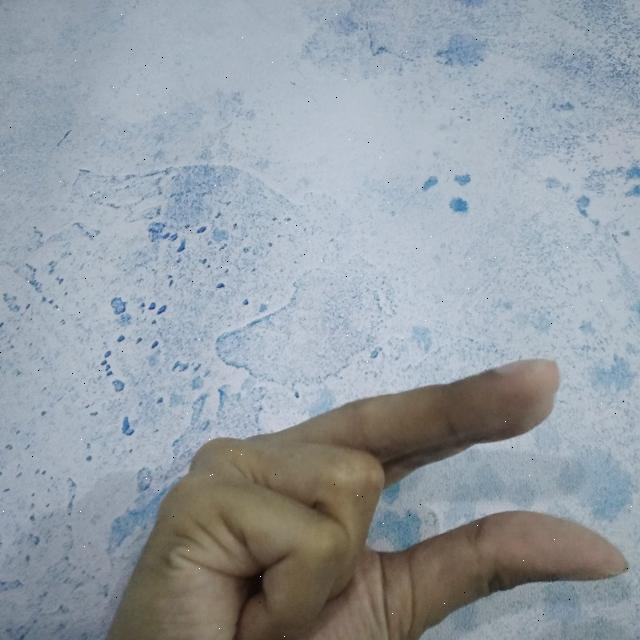G: (106, 355, 632, 640)
